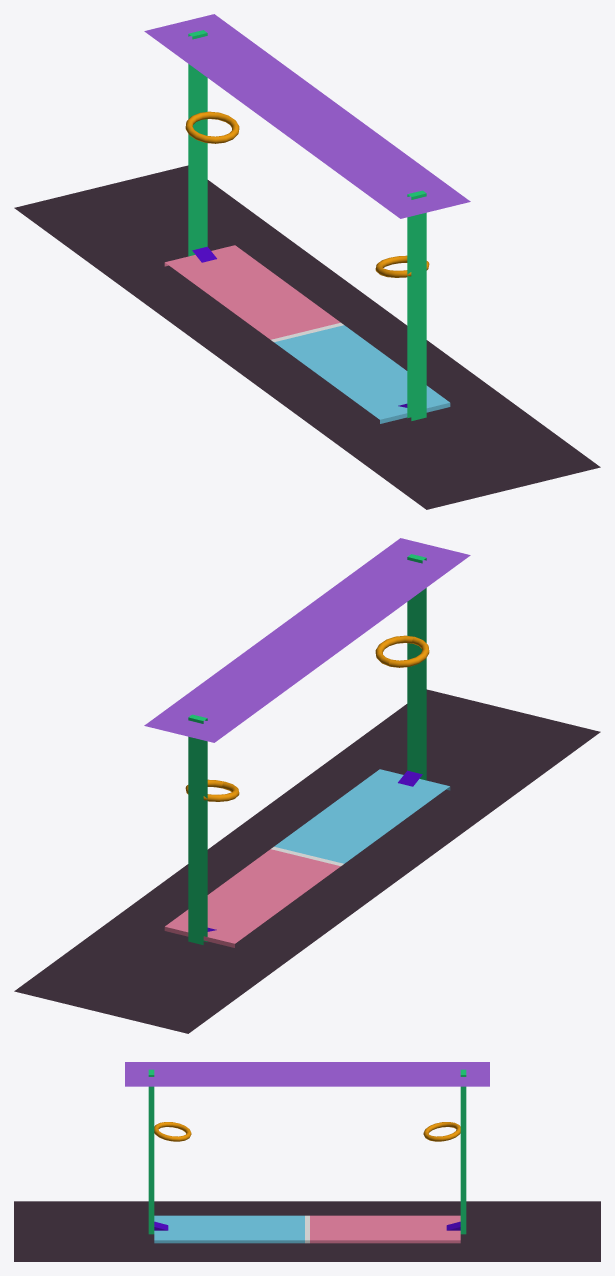
File: basketsceneblockmesh.fbx
3 views of the same model, one above another, from view 1: azimuth 30°, elevation 25°; view 2: azimuth 150°, elevation 25°; view 3: azimuth 270°, elevation 25° (orthographic). The views are drawn at different scales.
Parts seen in each view (by area): view 1: Plane.006, Plane.001, pole, FloorR, floorL, ring; view 2: Plane.006, Plane.001, pole, floorL, FloorR, ring; view 3: Plane.006, Plane.001, floorL, FloorR, pole, ring.
Boxes of the visible parts, x1,y1,x2,y2 form: Plane.006: (14, 165, 600, 509); Plane.001: (144, 14, 470, 218); pole: (188, 30, 426, 420); FloorR: (164, 245, 340, 339); floorL: (274, 325, 450, 423); ring: (185, 111, 429, 277); Plane.006: (14, 689, 600, 1033); Plane.001: (144, 538, 470, 742); pole: (188, 554, 426, 944); floorL: (274, 769, 450, 863); FloorR: (164, 849, 340, 947); ring: (185, 635, 429, 801); Plane.006: (14, 1201, 600, 1261); Plane.001: (125, 1062, 489, 1086); floorL: (154, 1215, 304, 1243); FloorR: (310, 1215, 460, 1243); pole: (148, 1069, 466, 1234); ring: (154, 1122, 460, 1141).
Bounding box in the file's own units: 495 × 700 × 2029.
